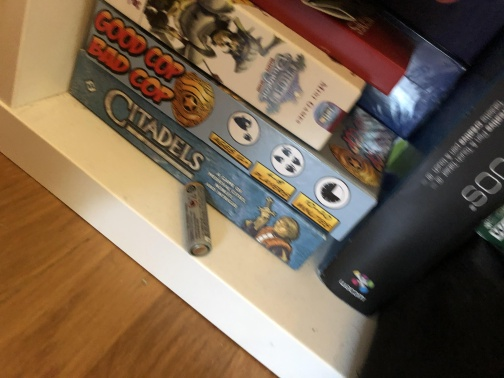battery: (178, 179, 215, 260)
